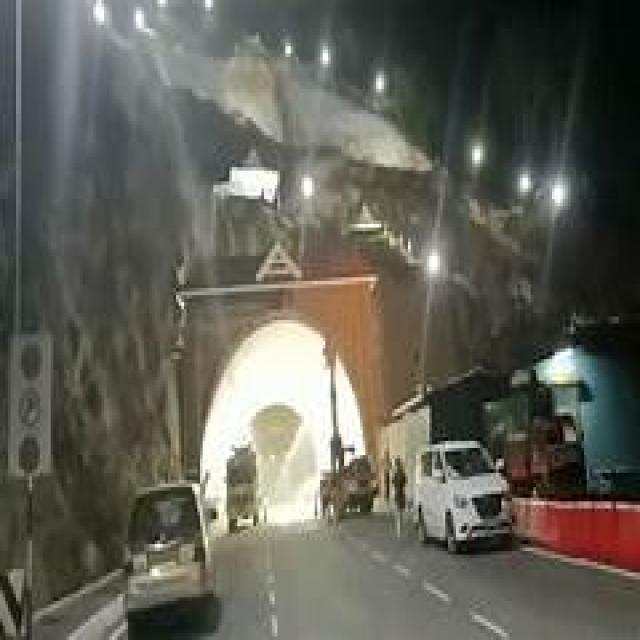Car: (409, 442, 511, 549), (128, 483, 214, 609)
